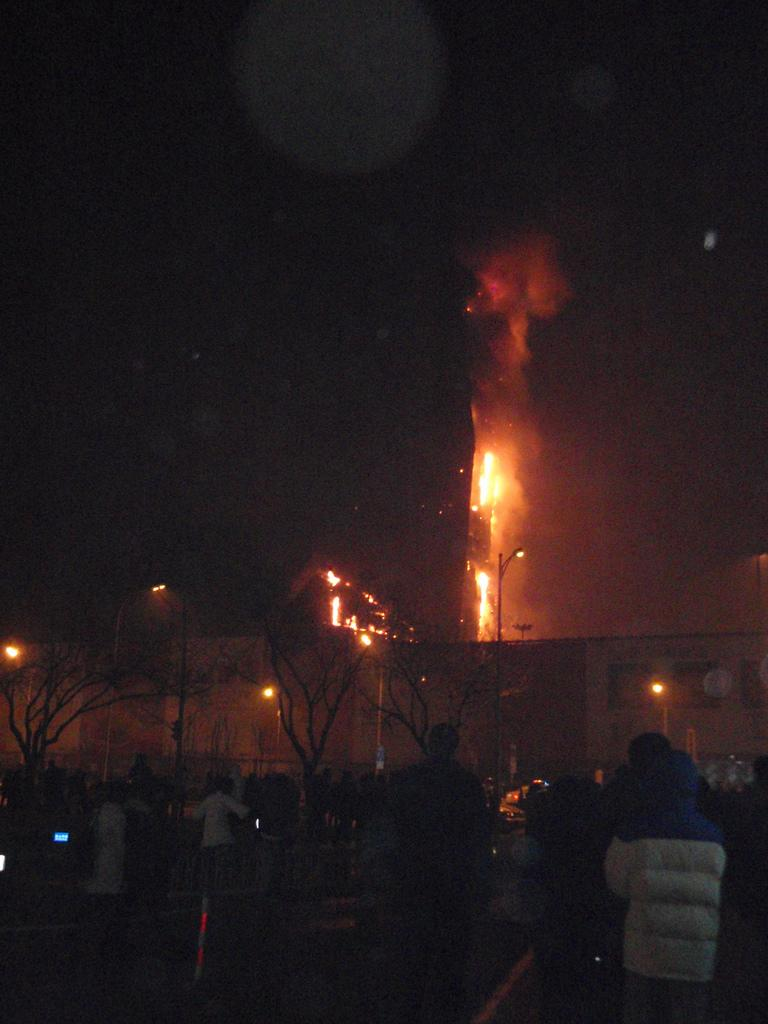fire: (478, 438, 520, 538)
